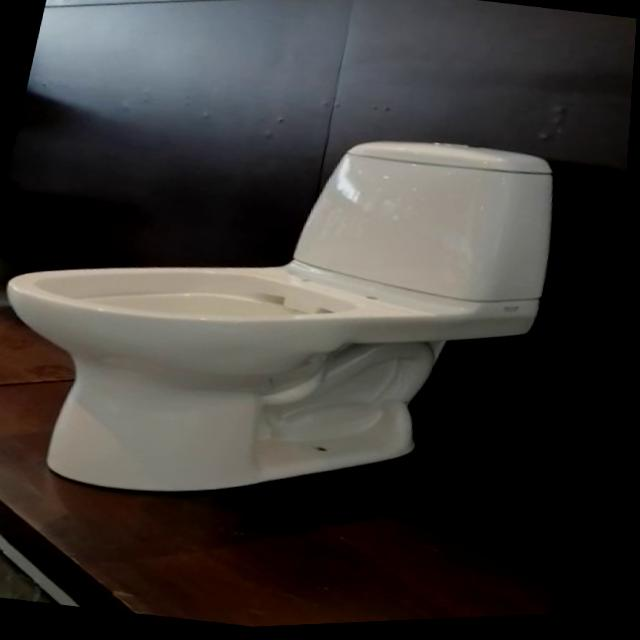toilet: (0, 77, 581, 555)
